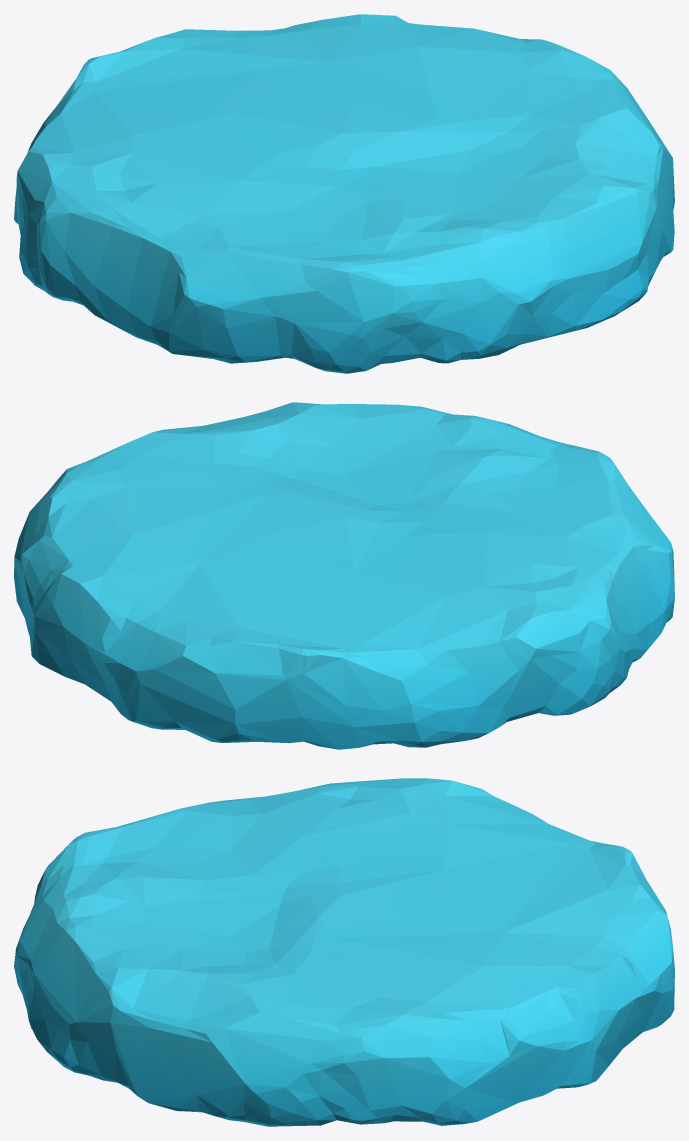
File: obstacle_7_001.fbx
The picture shows the model from 3 angles, top to bottom: view 1: azimuth 30°, elevation 25°; view 2: azimuth 150°, elevation 25°; view 3: azimuth 270°, elevation 25°; orthographic projection. The views are drawn at different scales.
Visible parts, largest first — view 1: obstacle_7_001; view 2: obstacle_7_001; view 3: obstacle_7_001.
Part boxes in pixels (bbox=[...]): obstacle_7_001: bbox=[14, 14, 674, 373]; obstacle_7_001: bbox=[14, 402, 674, 749]; obstacle_7_001: bbox=[14, 778, 674, 1126].
Size of the model in its own units: 993 by 997 by 178.
